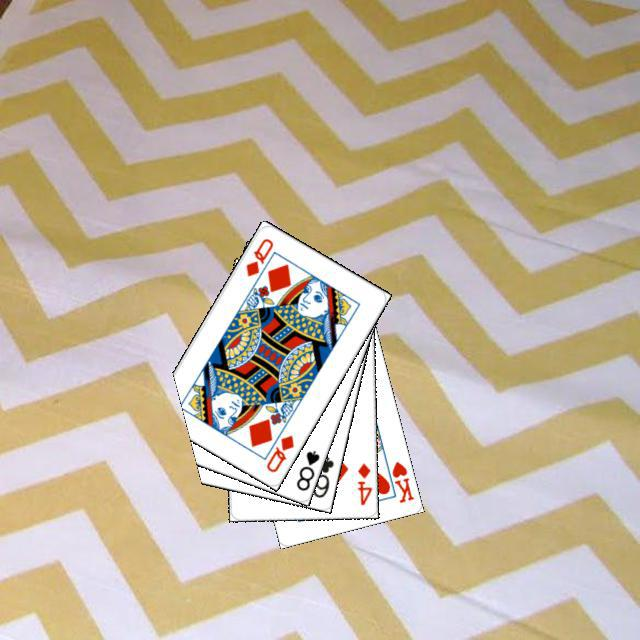4d: (352, 458, 373, 507)
6c: (308, 452, 335, 500)
8s: (291, 446, 321, 493)
Kh: (380, 455, 416, 505)
Qd: (261, 430, 296, 474), (241, 233, 275, 278)
